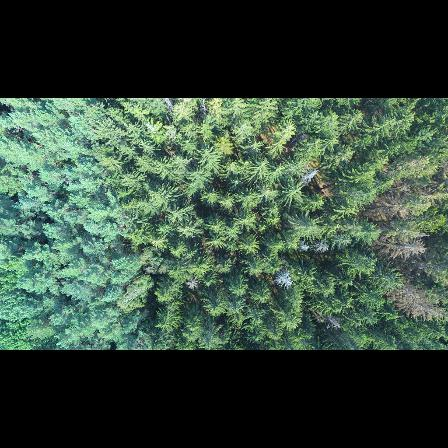Dead: (272, 266, 294, 292), (296, 166, 322, 182), (309, 242, 330, 254), (297, 241, 309, 255)
